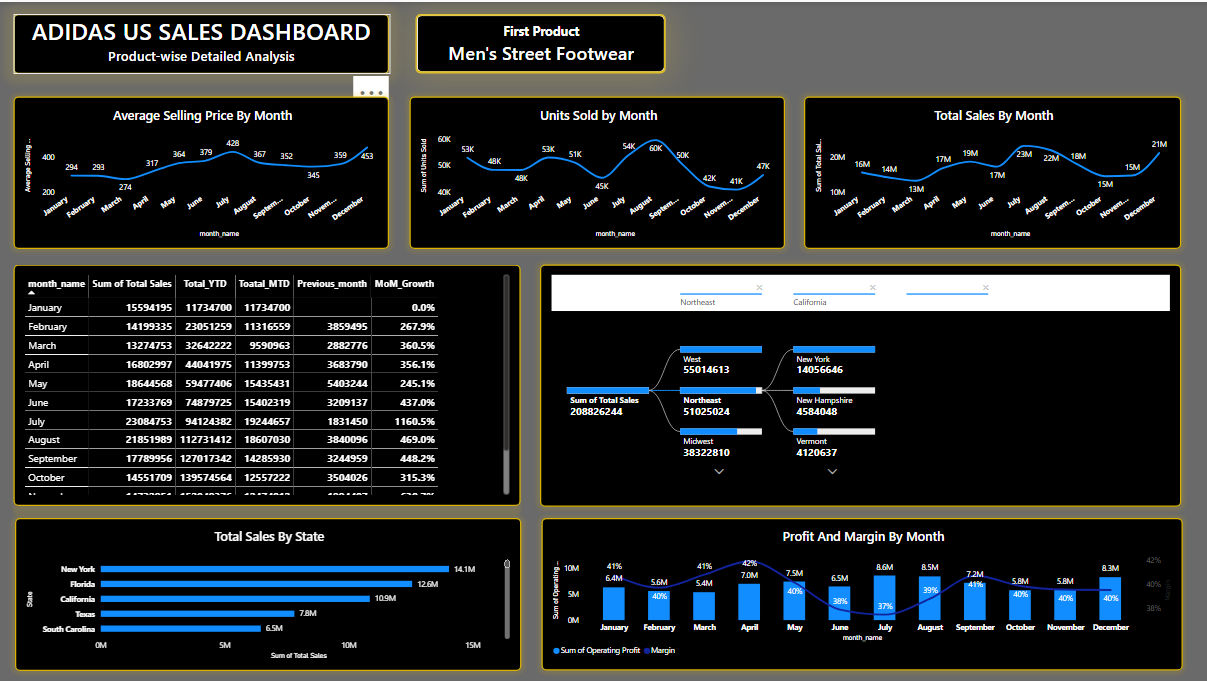

What the dashboard file says about the page in this screenshot:
{"tool":"powerbi","page":{"name":"Product_wise_detail_analyssis","canvas":[1920,1080],"ordinal":4},"visuals":[{"type":"textbox","box":[22.5,20,597.5,95],"z":0},{"type":"cardVisual","fields":{"Data":["Min(Adidas Sales.Product)"]},"box":[662.1,19,398.3,94.8],"z":1000},{"type":"lineChart","title":"Total Sales By Month","fields":{"Category":["Date_matster_table.month_name"],"Y":["Sum(Adidas Sales.Total Sales)"]},"box":[1280,150,600,242.5],"z":2000},{"type":"pivotTable","fields":{"Rows":["Date_matster_table.month_name"],"Values":["Sum(Adidas Sales.Total Sales)","Adidas Sales.Total_YTD","Adidas Sales.Toatal_MTD","Adidas Sales.Previous_month","Adidas Sales.MoM_Growth"]},"box":[22.5,417.5,806.4,384.1],"z":3000},{"type":"lineChart","title":"Average Selling Price By Month","fields":{"Category":["Date_matster_table.month_name"],"Y":["Adidas Sales.Average Selling Price"]},"box":[22.5,150,597.5,242.5],"z":4000},{"type":"lineChart","title":"Units Sold by Month","fields":{"Category":["Date_matster_table.month_name"],"Y":["Sum(Adidas Sales.Units Sold)"]},"box":[651.2,150,597.5,242.5],"z":5000},{"type":"clusteredBarChart","title":"Total Sales By State","fields":{"Category":["Adidas Sales.State"],"Y":["Sum(Adidas Sales.Total Sales)"]},"box":[23.3,820,805,243.3],"z":6000},{"type":"decompositionTreeVisual","fields":{"Analyze":["Sum(Adidas Sales.Total Sales)"],"ExplainBy":["Adidas Sales.Region","Adidas Sales.State","Adidas Sales.Sales Method"]},"box":[860,417.5,1020,385],"z":7000},{"type":"lineStackedColumnComboChart","title":"Profit And Margin By Month","fields":{"Category":["Date_matster_table.month_name"],"Y":["Sum(Adidas Sales.Operating Profit)"],"Y2":["Adidas Sales.Margin"]},"box":[861.7,821.7,1020,242.5],"z":8000}]}

Visuals, with their boxes in screenshot pixels (x1, y1, x2, y2), scaled from the page's 1920x1080 canvas onto the 1207x681 screenshot:
textbox: bbox=[14, 13, 390, 73]
cardVisual - Min(Adidas Sales.Product): bbox=[416, 12, 667, 72]
"Total Sales By Month" lineChart: bbox=[805, 95, 1182, 247]
pivotTable - Date_matster_table.month_name x Sum(Adidas Sales.Total Sales): bbox=[14, 263, 521, 505]
"Average Selling Price By Month" lineChart: bbox=[14, 95, 390, 247]
"Units Sold by Month" lineChart: bbox=[409, 95, 785, 247]
"Total Sales By State" clusteredBarChart: bbox=[15, 517, 521, 670]
decompositionTreeVisual - Sum(Adidas Sales.Total Sales) x Adidas Sales.Region: bbox=[541, 263, 1182, 506]
"Profit And Margin By Month" lineStackedColumnComboChart: bbox=[542, 518, 1183, 671]
